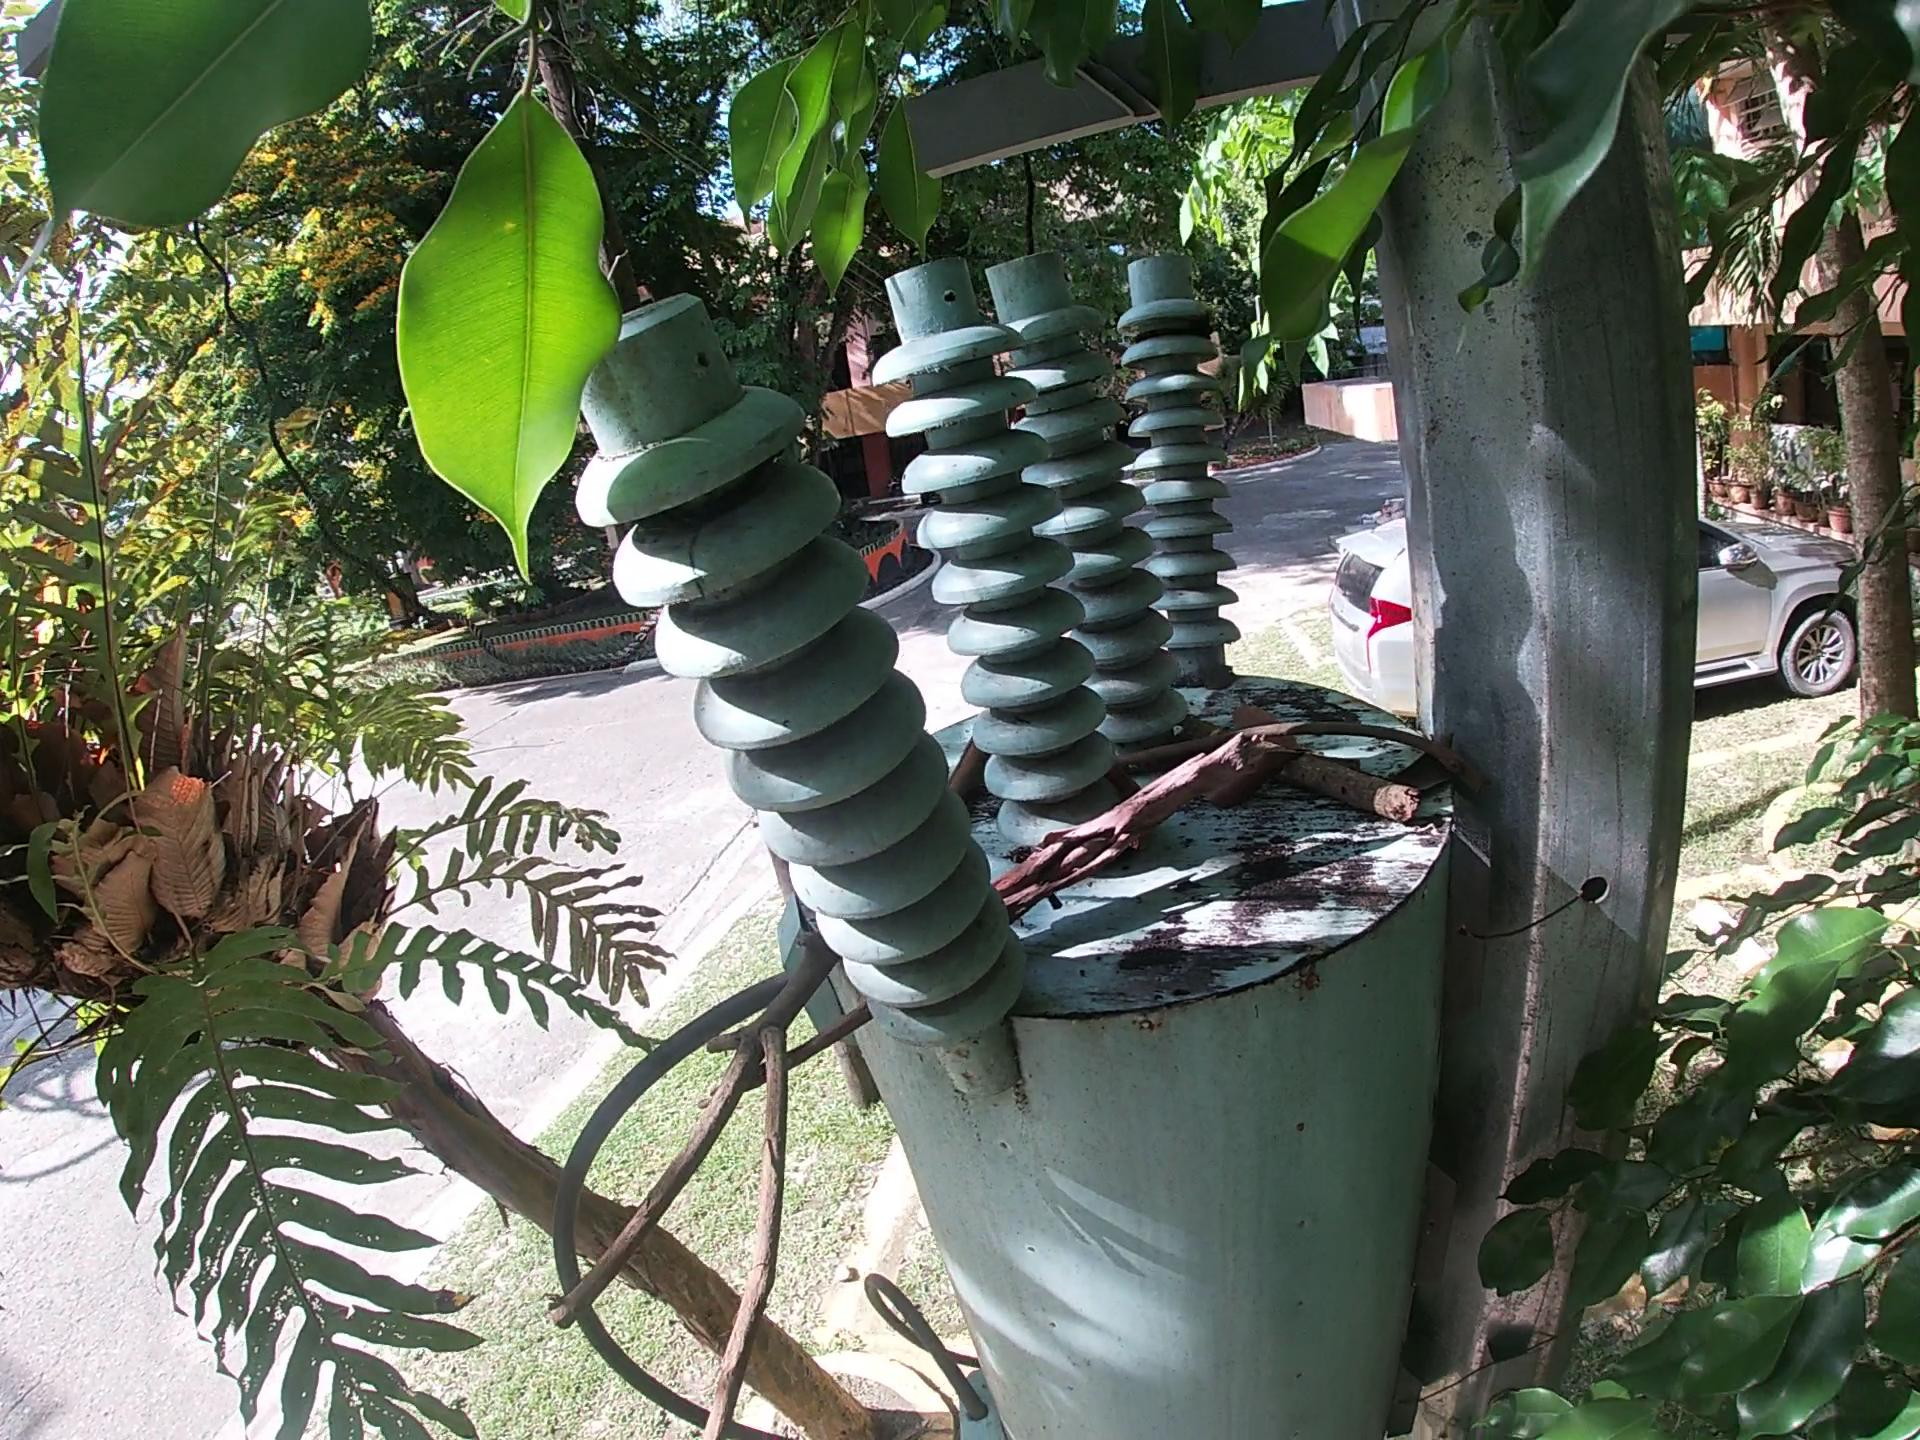leaf: (1234, 706, 1314, 746)
tree branch: (550, 933, 865, 1440), (986, 738, 1287, 905), (1184, 714, 1427, 832), (1069, 717, 1471, 755), (948, 735, 977, 821)
